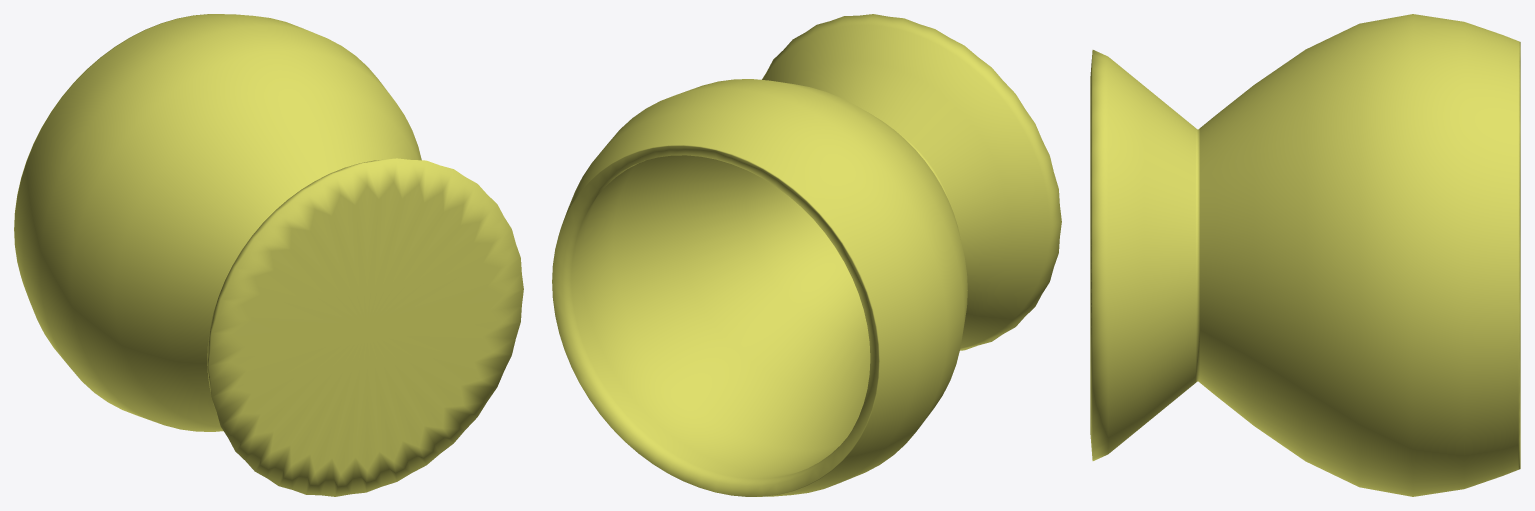
File: Cup.fbx
The picture shows the model from 3 angles, left to right: view 1: azimuth 30°, elevation 25°; view 2: azimuth 150°, elevation 25°; view 3: azimuth 270°, elevation 25°; orthographic projection. The views are drawn at different scales.
Parts seen in each view (by area): view 1: Cylinder; view 2: Cylinder; view 3: Cylinder.
Boxes of the visible parts, left/top/right/bottom form: Cylinder: left=14, top=14, right=523, bottom=496; Cylinder: left=552, top=14, right=1061, bottom=496; Cylinder: left=1090, top=14, right=1520, bottom=496.
Size of the model in its own units: 225 by 225 by 200.
